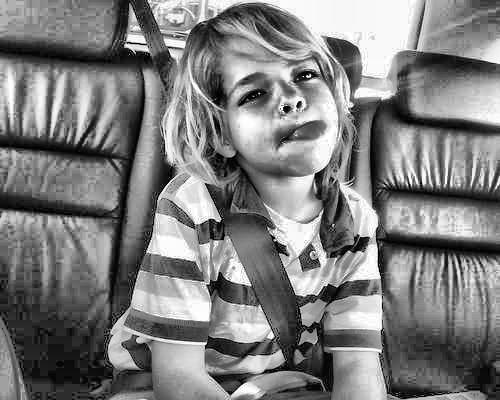seatbelt: (131, 12, 312, 354)
